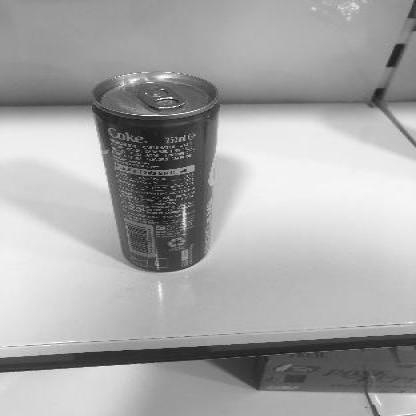alumunium_can: (87, 71, 224, 273)
